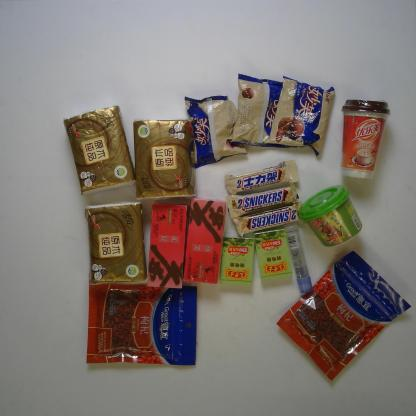Candy: (250, 226, 294, 281), (218, 233, 254, 289)
Chocolate: (223, 158, 303, 196), (228, 182, 304, 218), (232, 201, 302, 238)
Dessert: (270, 76, 336, 160), (182, 93, 248, 168), (230, 71, 286, 150)
Dried Fruit: (276, 249, 411, 382), (83, 281, 201, 370)
Instant Drink: (337, 96, 390, 181), (299, 184, 365, 248), (184, 195, 228, 287), (146, 202, 186, 292)
Stationery: (284, 227, 314, 294)
Tissue: (61, 106, 139, 195), (81, 200, 148, 284), (132, 117, 200, 199)
